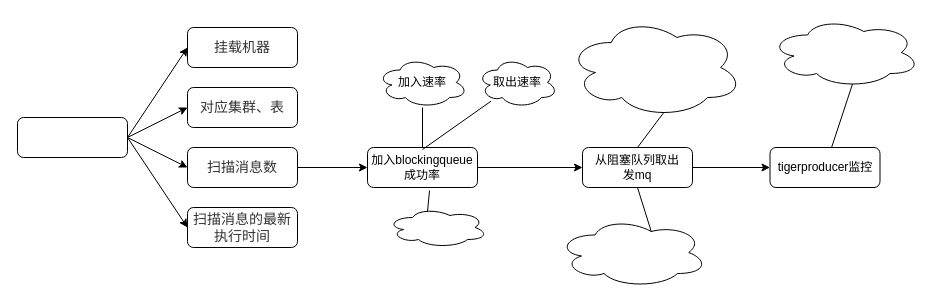
Some shapes in this 938 by 305 pixel diagram are drawn without their labels. The shapes that lost their labels are listed below. From the top down, each one's box as (x1, y1, x2, y2) in pixels, then its label:
(566, 16, 742, 118): 消息延迟程度，每个延迟 对应消息数。 同时列出机器ip
(769, 16, 920, 88): 监控producer内部线程池任务处理情况
(16, 116, 128, 158): JobId
(386, 206, 488, 248): 积压
(556, 216, 708, 288): topic对应消息延迟程度
